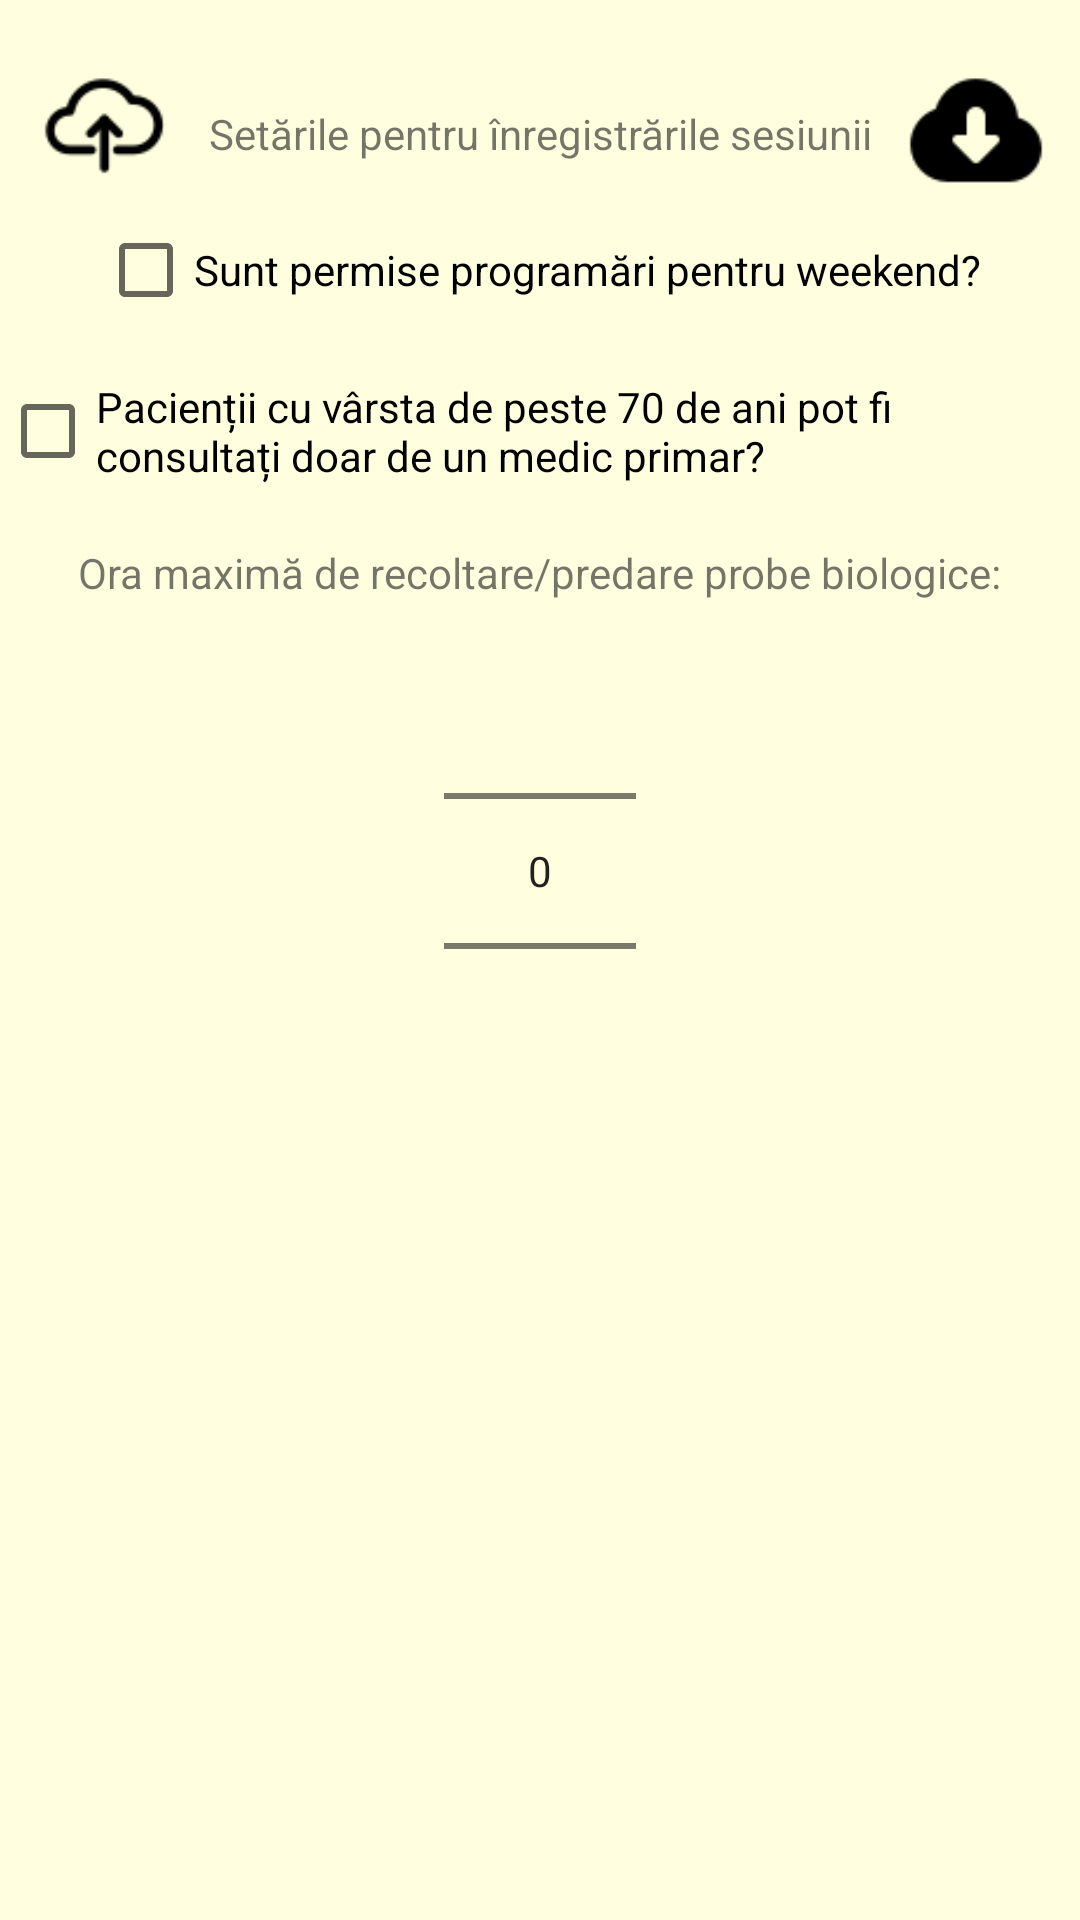

Where to tap for icons on this 1080px x 1920px app screen, as [x,y]:
firebase restaurare: [976,130]
firebase salvare: [104,125]
